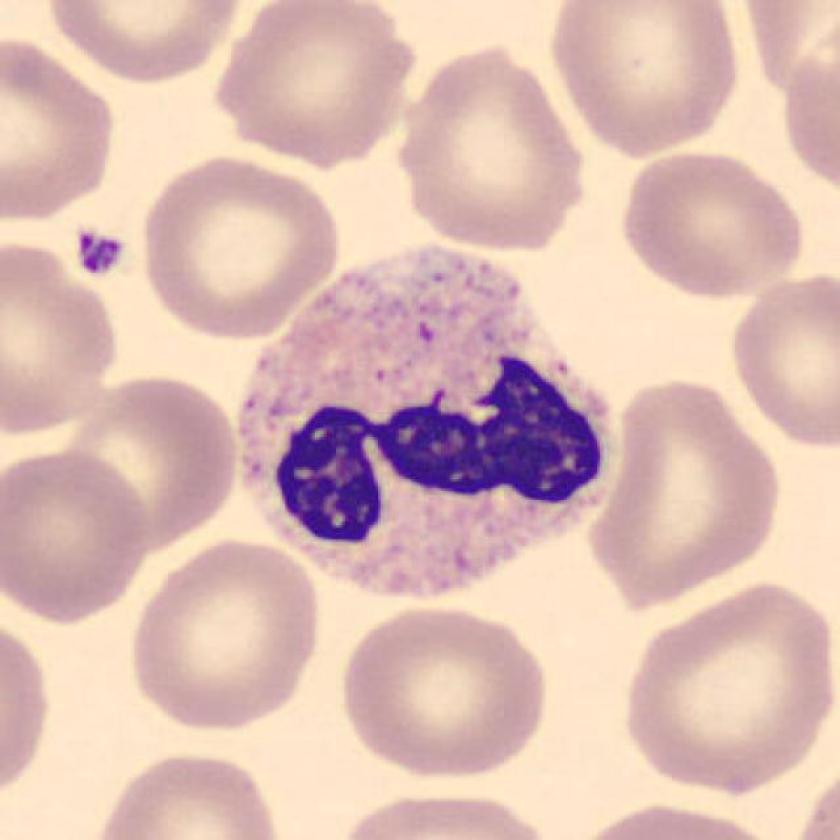neutrophil: (237, 245, 618, 604)
